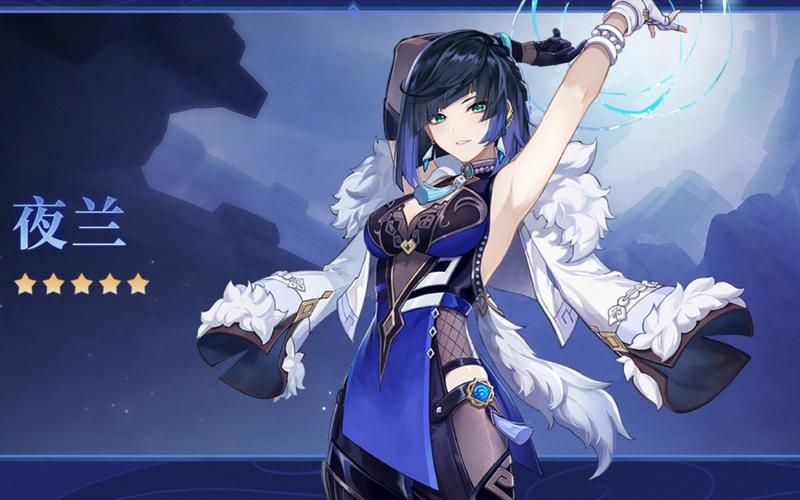夜兰: (319, 9, 691, 495)
